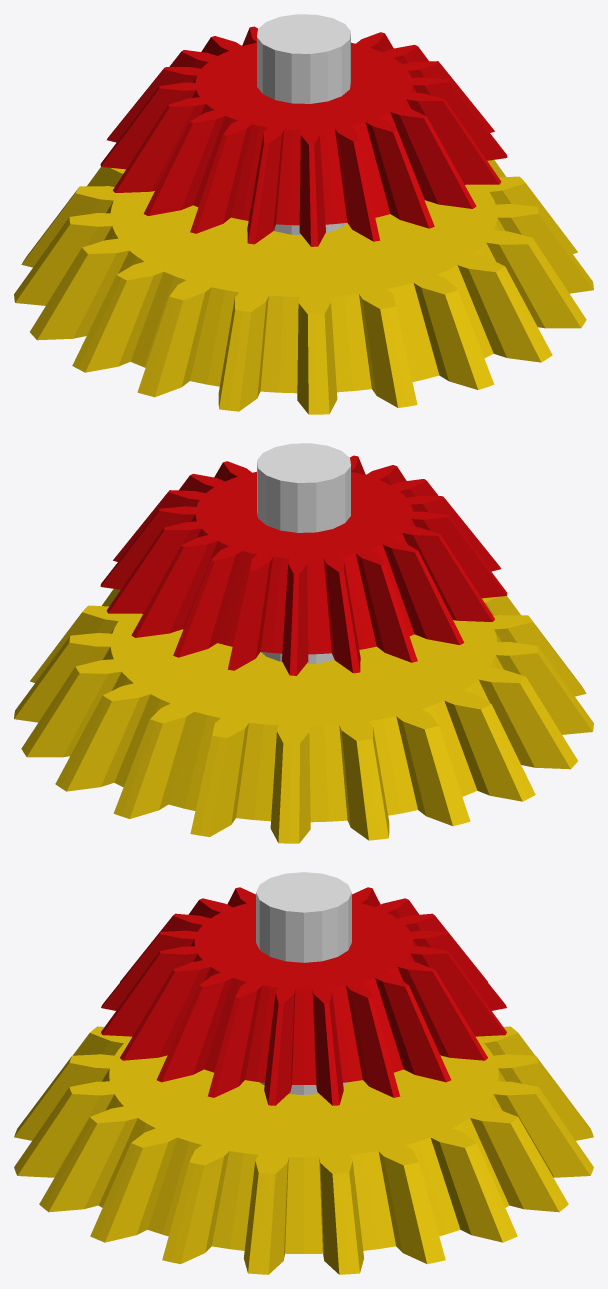
Rendered from MacrotechMaterial.fbx.
3 renders of one model, top to bottom at view 1: azimuth 30°, elevation 25°; view 2: azimuth 150°, elevation 25°; view 3: azimuth 270°, elevation 25°, orthographic.
Visible parts, largest first — view 1: Gear, Gear2, Pipe; view 2: Gear, Gear2, Pipe; view 3: Gear, Gear2, Pipe.
Boxes of the visible parts, box(x1,y1,x2,y2) form: Gear: box(14, 160, 593, 414); Gear2: box(100, 26, 507, 246); Pipe: box(257, 14, 350, 234); Gear: box(14, 589, 593, 843); Gear2: box(100, 455, 507, 675); Pipe: box(257, 443, 350, 663); Gear: box(14, 1026, 593, 1274); Gear2: box(101, 887, 506, 1105); Pipe: box(256, 872, 351, 1094).
Size of the model in its own units: 339 by 200 by 339.
